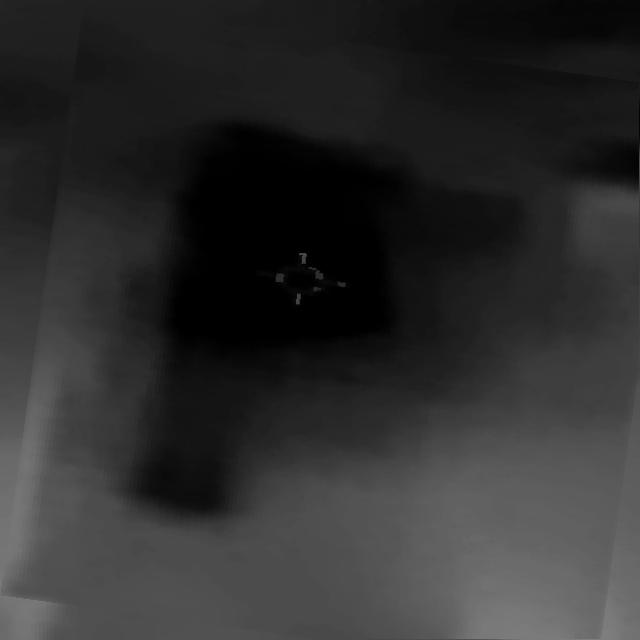Weapon: (19, 23, 640, 640)
